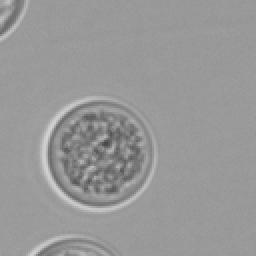picoshell: (40, 96, 156, 213), (28, 234, 116, 254)
